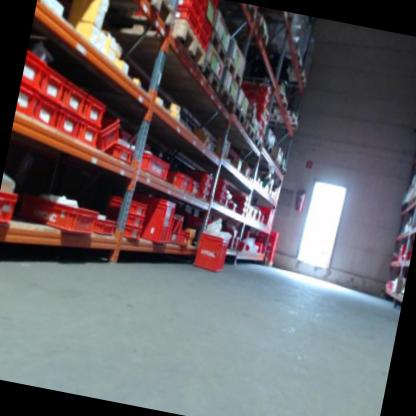pallet: (106, 3, 214, 76), (52, 0, 182, 45), (148, 54, 224, 96), (209, 5, 273, 51), (236, 77, 291, 116), (200, 84, 239, 119), (197, 28, 231, 67), (191, 0, 258, 19), (217, 58, 248, 89), (217, 106, 250, 129), (270, 111, 300, 134), (236, 123, 256, 147), (248, 133, 264, 154), (258, 137, 273, 157)
small_load_carrier: (17, 191, 98, 239), (130, 193, 176, 248), (193, 231, 229, 273), (130, 146, 172, 182), (95, 111, 124, 158), (39, 63, 69, 103), (61, 78, 91, 117), (20, 49, 46, 93), (161, 210, 187, 252), (53, 108, 85, 142), (82, 92, 110, 127), (166, 7, 200, 35), (163, 166, 193, 195), (14, 87, 40, 119), (108, 194, 149, 214), (106, 206, 147, 226), (0, 188, 20, 228), (32, 98, 58, 127), (113, 222, 144, 243), (173, 0, 204, 21), (78, 121, 101, 149), (94, 215, 118, 240), (112, 143, 135, 166), (190, 168, 214, 185), (175, 228, 189, 247), (195, 188, 212, 203), (209, 195, 226, 210), (214, 177, 231, 189), (212, 186, 229, 197), (197, 181, 212, 191), (189, 180, 198, 196)
